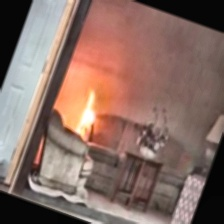fire: (60, 81, 117, 144)
